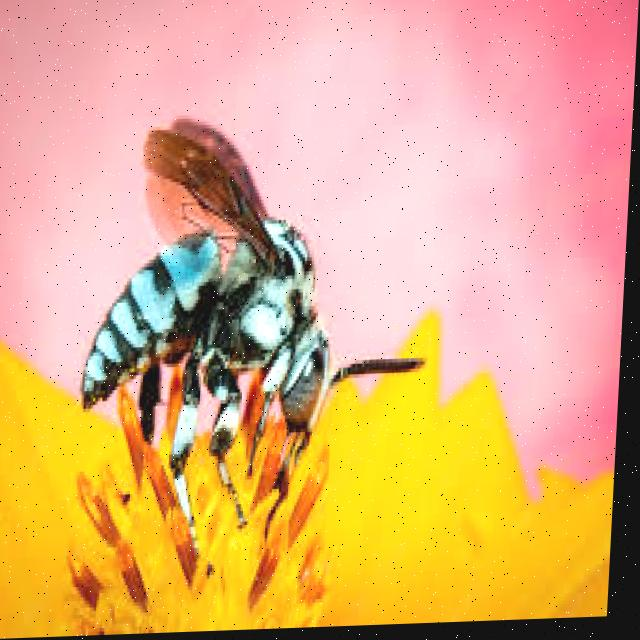Thyreus: (65, 97, 434, 502)
